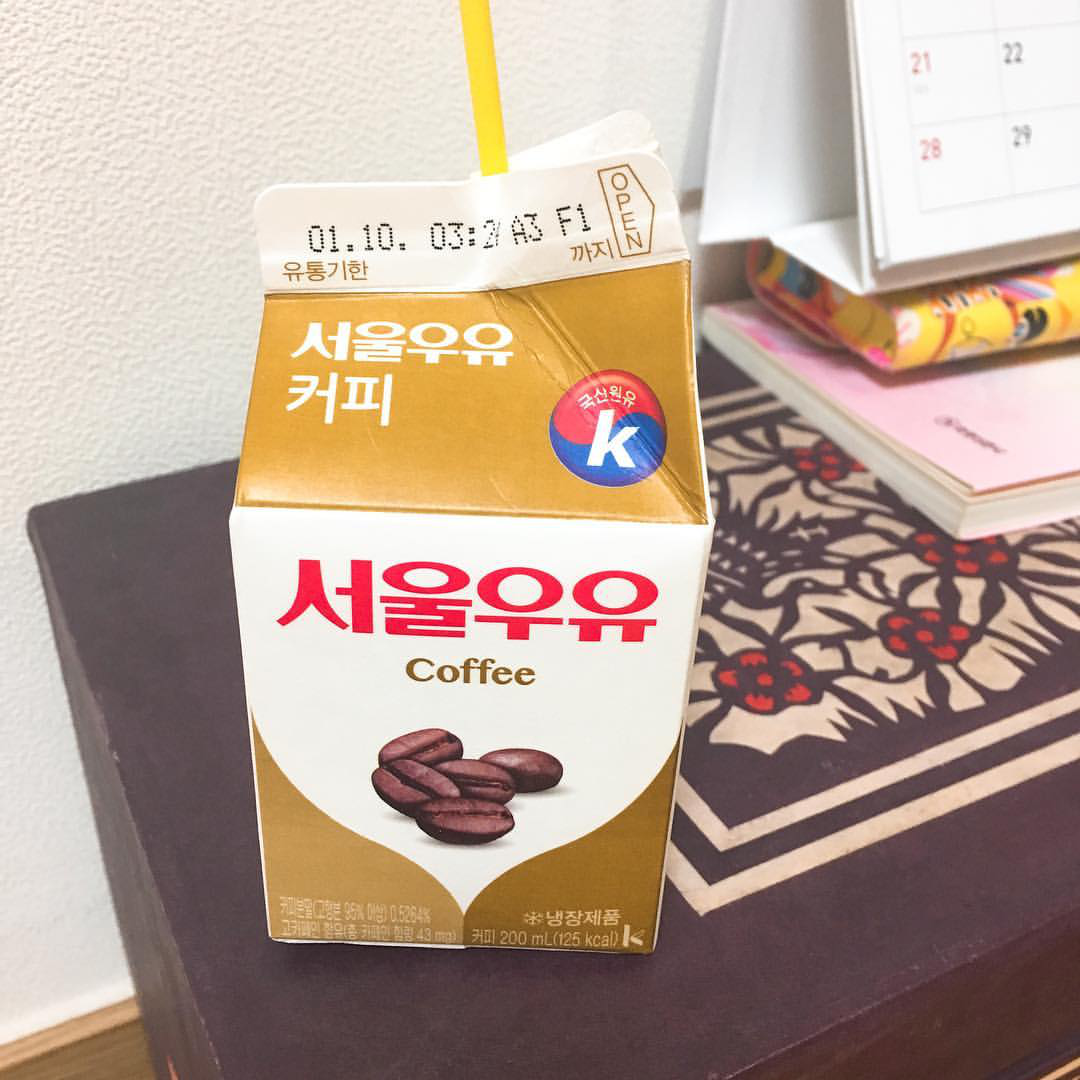milk: (228, 112, 720, 969)
